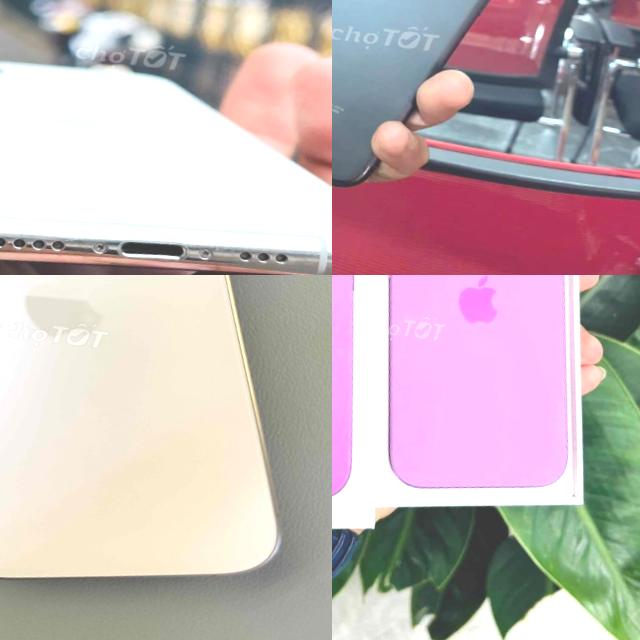gen_11: (0, 32, 332, 275)
gen_16: (0, 275, 277, 577), (345, 275, 613, 503)
gen_7_8: (332, 0, 532, 202)
